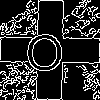O: (25, 25, 65, 72)
